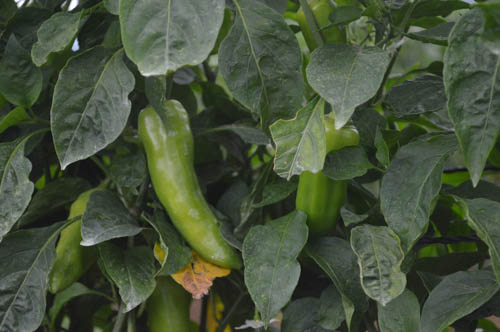ChiliPepper: (139, 105, 243, 277), (298, 115, 361, 226), (45, 190, 113, 290)
